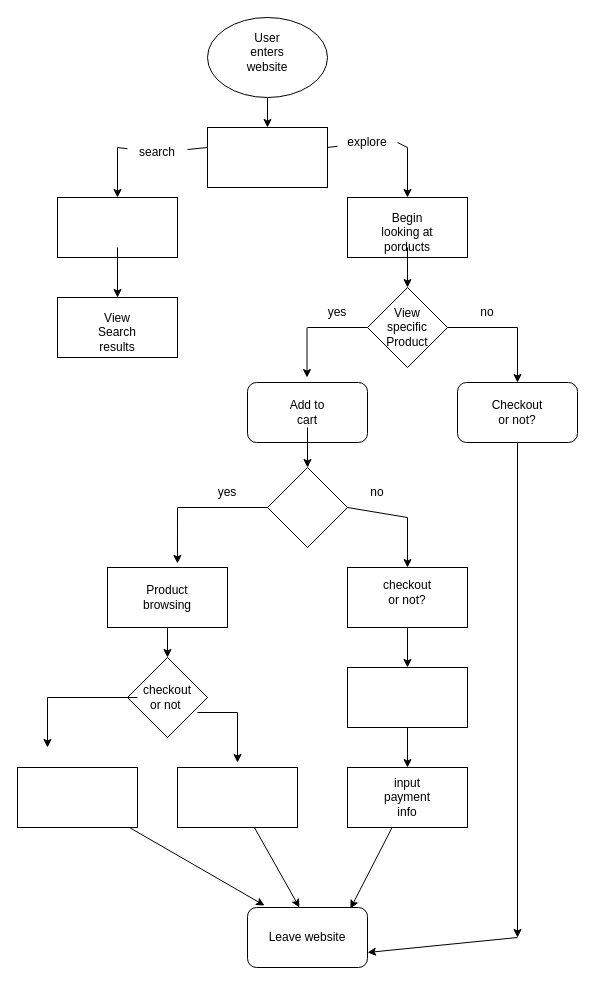
This 595x985 diagram has some shape labels left out. Each missing label, with the centre of its shape:
"continue shopping" belongs at (237,797).
"Continue shopping?" belongs at (307,507).
"Enter Search term" belongs at (117,227).
"Search or explore products" belongs at (267,157).
"View Cart" belongs at (407,697).
"view cart, payment info" belongs at (77,797).
